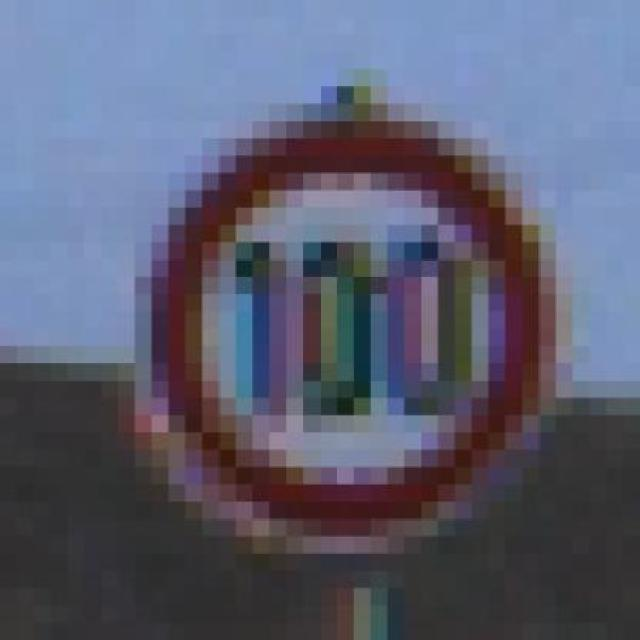forb_speed_over_100: (155, 123, 549, 546)
